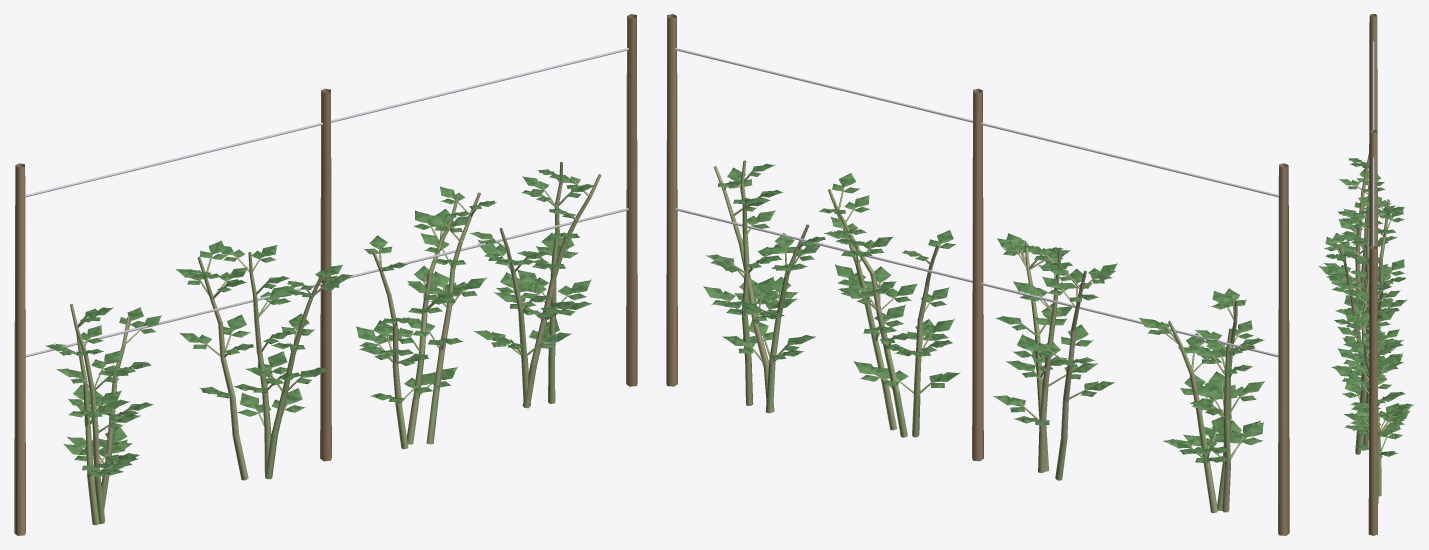
The model's file is framboise_feuilles.glb.
3 renders of one model, left to right at view 1: azimuth 30°, elevation 25°; view 2: azimuth 150°, elevation 25°; view 3: azimuth 270°, elevation 25°, orthographic. The views are drawn at different scales.
Visible parts, largest first — view 1: Framboise_Feuilles, Framboise_Cannes, Framboise_Piquets, Framboise_Fil; view 2: Framboise_Feuilles, Framboise_Cannes, Framboise_Piquets, Framboise_Fil; view 3: Framboise_Feuilles, Framboise_Piquets, Framboise_Cannes, Framboise_Fil.
Part boxes in pixels (x1,y1,x2,y2): Framboise_Feuilles: [45, 169, 595, 476]; Framboise_Cannes: [66, 162, 601, 525]; Framboise_Piquets: [14, 14, 637, 535]; Framboise_Fil: [25, 48, 628, 357]; Framboise_Feuilles: [703, 163, 1264, 463]; Framboise_Cannes: [713, 160, 1245, 513]; Framboise_Piquets: [666, 14, 1289, 535]; Framboise_Fil: [675, 48, 1278, 357]; Framboise_Feuilles: [1319, 158, 1413, 457]; Framboise_Piquets: [1368, 14, 1377, 535]; Framboise_Cannes: [1336, 152, 1395, 503]; Framboise_Fil: [1372, 41, 1374, 246].
Bounding box in the file's own units: 2.03 × 1.15 × 0.3508.
